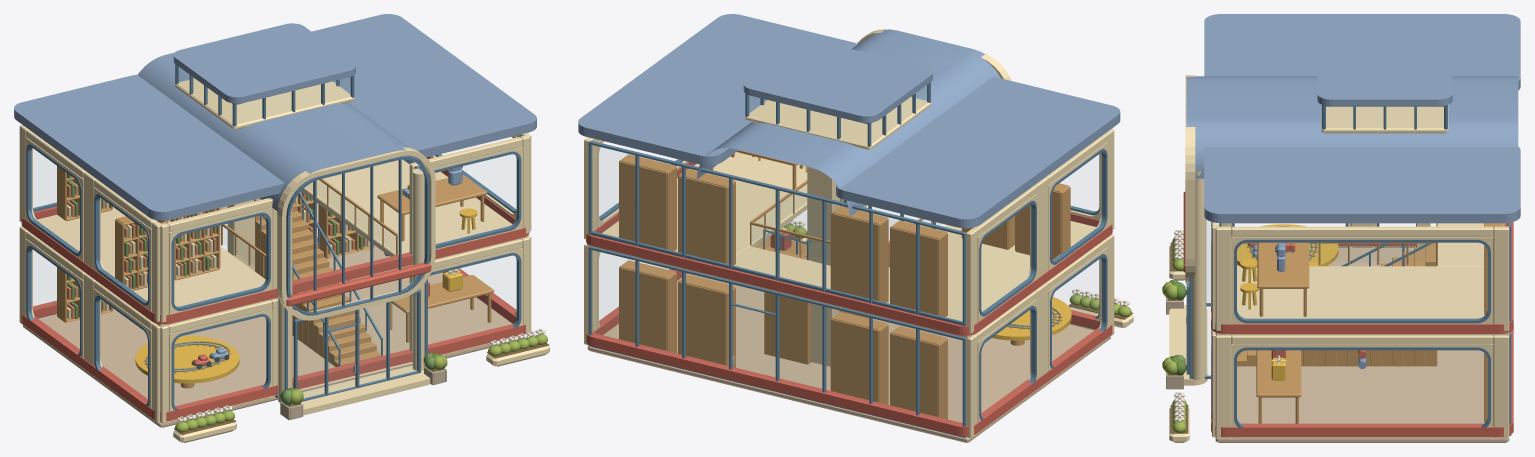
The picture shows the model from 3 angles, left to right: view 1: azimuth 30°, elevation 25°; view 2: azimuth 150°, elevation 25°; view 3: azimuth 270°, elevation 25°; orthographic projection. The views are drawn at different scales.
Parts seen in each view (by area): view 1: R 圆角蓝色平屋面, S 首层室内楼面, D 珊瑚色楼层腰线, S 二层两翼楼板, A 圆角窗框, R 中庭弧面屋盖, A 墙体, R 高窗蓝色顶盖, A 窗上墙, A 窗角实墙, S 楼梯踏步, I 分类小商品 (+20 smaller); view 2: R 圆角蓝色平屋面, I 货架背板, D 珊瑚色楼层腰线, A 后窗立面, S 首层室内楼面, R 中庭弧面屋盖, R 高窗蓝色顶盖, S 二层两翼楼板, A 墙体, I 格柜竖板, A 圆角窗框, A 窗角实墙 (+10 smaller); view 3: R 圆角蓝色平屋面, R 中庭弧面屋盖, S 首层室内楼面, S 二层两翼楼板, R 高窗蓝色顶盖, D 珊瑚色楼层腰线, A 墙体, A 窗上墙, A 圆角窗框, I 工作桌, A 窗角实墙, R 高窗底槛 (+18 smaller).
Part boxes in pixels (box(x1,y1,x2,y2)): R 圆角蓝色平屋面: box(14, 14, 536, 220); S 首层室内楼面: box(23, 245, 527, 427); D 珊瑚色楼层腰线: box(21, 156, 529, 421); S 二层两翼楼板: box(37, 159, 528, 326); A 圆角窗框: box(26, 144, 521, 410); R 中庭弧面屋盖: box(138, 52, 423, 210); A 墙体: box(19, 125, 531, 423); R 高窗蓝色顶盖: box(173, 23, 355, 103); A 窗上墙: box(26, 129, 522, 333); A 窗角实墙: box(25, 136, 522, 411); S 楼梯踏步: box(255, 199, 381, 366); I 分类小商品: box(67, 173, 370, 318); R 圆角蓝色平屋面: box(578, 14, 1120, 228); I 货架背板: box(619, 161, 1061, 416); D 珊瑚色楼层腰线: box(586, 162, 1112, 436); A 后窗立面: box(588, 140, 966, 437); S 首层室内楼面: box(587, 273, 1110, 442); R 中庭弧面屋盖: box(697, 29, 1000, 216); R 高窗蓝色顶盖: box(743, 40, 932, 122); S 二层两翼楼板: box(587, 152, 1096, 338); A 墙体: box(584, 128, 1114, 438); I 格柜竖板: box(619, 161, 1070, 419); A 圆角窗框: box(599, 149, 1107, 420); A 窗角实墙: box(597, 140, 1108, 422); R 圆角蓝色平屋面: box(1204, 14, 1520, 223); R 中庭弧面屋盖: box(1186, 76, 1518, 178); S 首层室内楼面: box(1215, 247, 1509, 442); S 二层两翼楼板: box(1215, 266, 1509, 335); R 高窗蓝色顶盖: box(1317, 33, 1452, 106); D 珊瑚色楼层腰线: box(1211, 222, 1513, 436); A 墙体: box(1212, 223, 1509, 438); A 窗上墙: box(1212, 222, 1493, 344); A 圆角窗框: box(1211, 222, 1490, 427); I 工作桌: box(1256, 242, 1309, 423); A 窗角实墙: box(1229, 223, 1493, 427); R 高窗底槛: box(1321, 105, 1448, 133).
Bounding box in the file's own units: 20.95 × 13.78 × 15.86.
